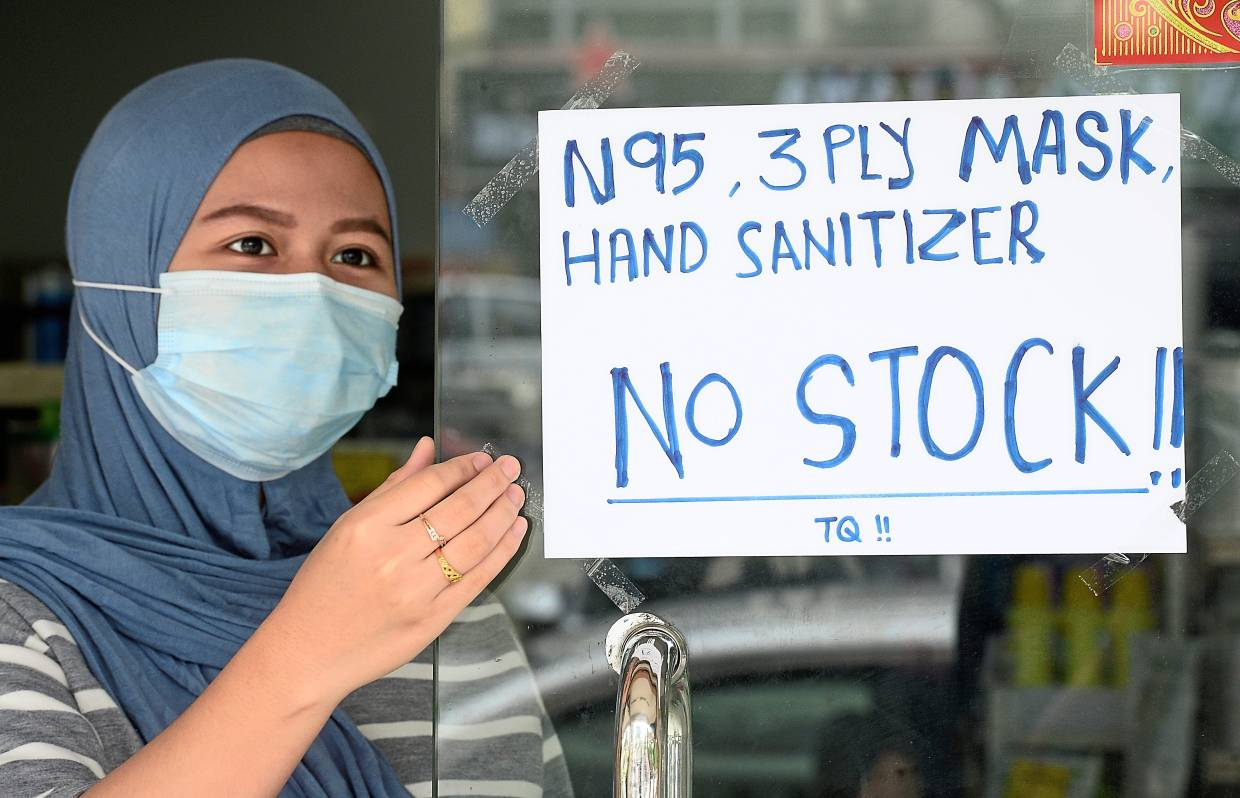surgical: (134, 261, 416, 486)
